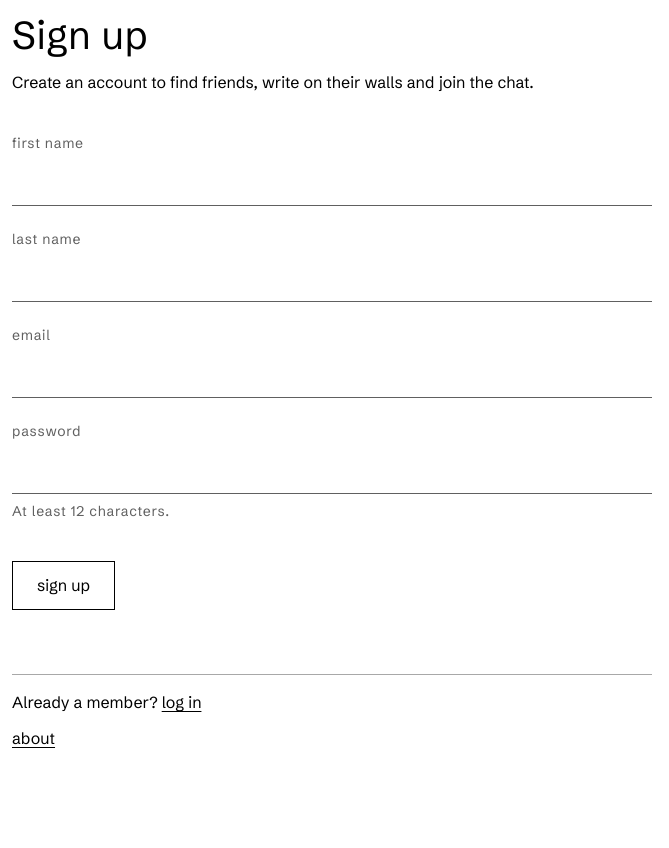
RegisterPage › F-11, B-105: an empty submit shows text errors next to the fields, marks them invalid and sends nothing
The width and height of the screenshot is (669, 848).
Click the button "sign up". click: {"x": 63, "y": 586}
box: [12, 561, 115, 610]
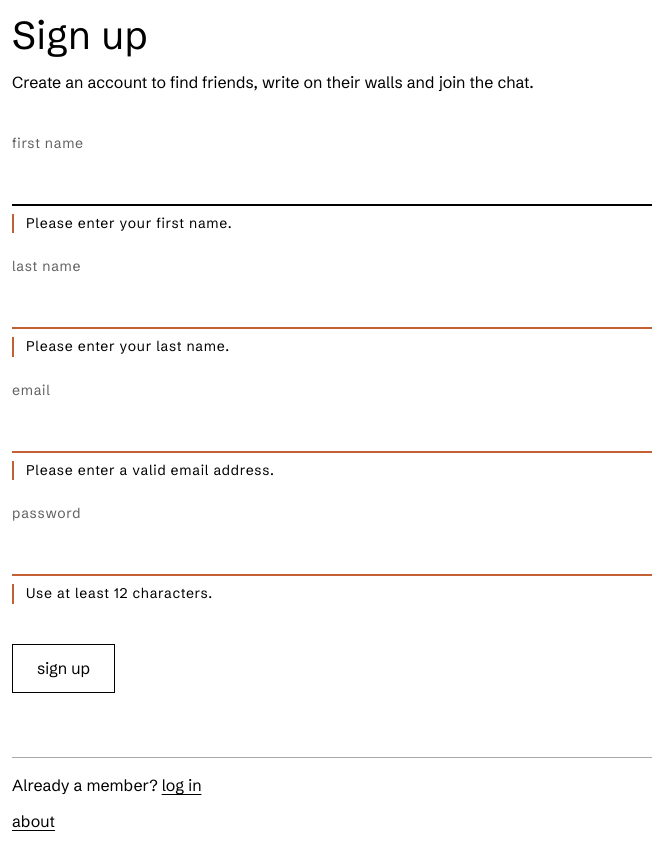
Check: the field labelled "last name" is marked as invalid, box [12, 285, 652, 329]
Check: the field labelled "email" is marked as invalid, box [12, 408, 652, 453]
Check: the password field labelled "password" is marked as invalid, box [12, 532, 652, 576]
